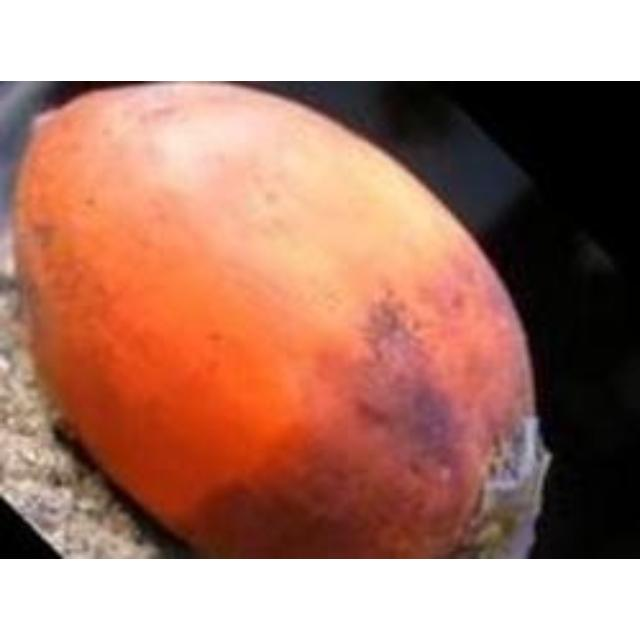good: (13, 81, 553, 557)
